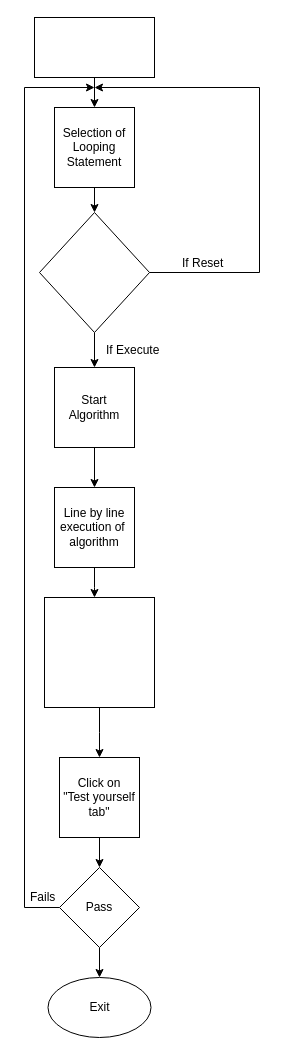
Some shapes in this 285 by 1055 pixel diagram are drawn without their labels. Each missing label, with the centre of its shape:
"Output window shows result of each instruction of algorithm" goes at point (99, 652).
"Select Execute/Reset" goes at point (94, 272).
"Start" goes at point (94, 47).
